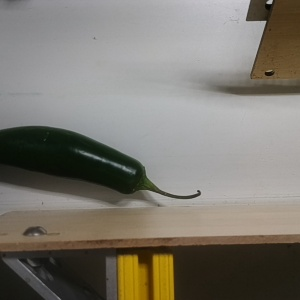Cut Point: (120, 159, 156, 198)
